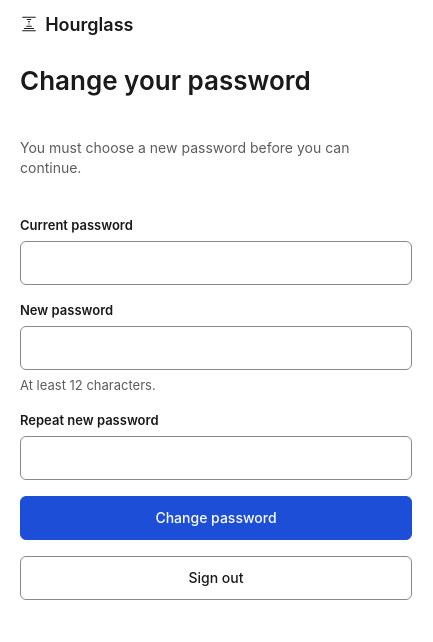
Test: AUTH-7 change-password screen › requires the two entries to match
This screenshot has width=433, height=642.
Type "old" into the password field labelled "Current password" at (216, 263), box [20,241,412,285]
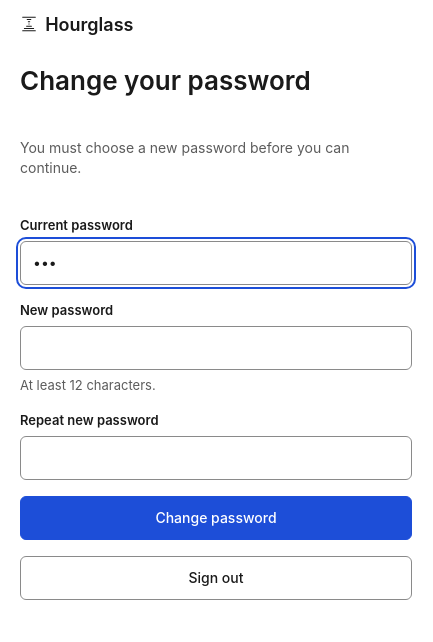
Type "a-long-enough-pw" into the password field labelled "New password" at (216, 348), box [20,326,412,370]
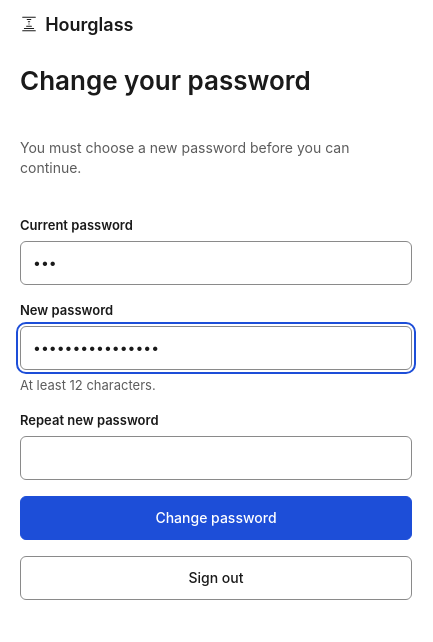
Type "different-long-pw" into the password field labelled "Repeat new password" at (216, 458), box [20,436,412,480]
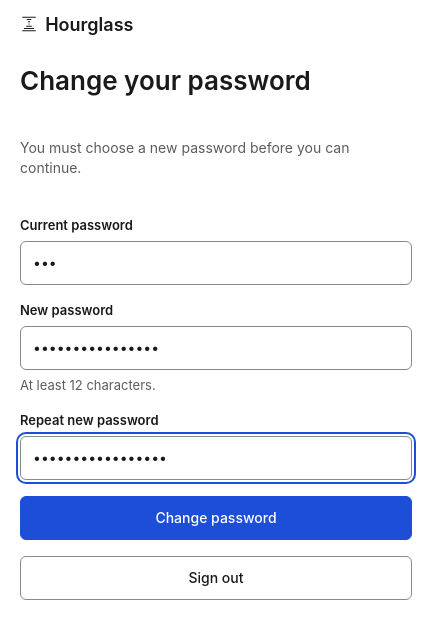
Click the button "Change password" at (216, 518), box [20,496,412,540]
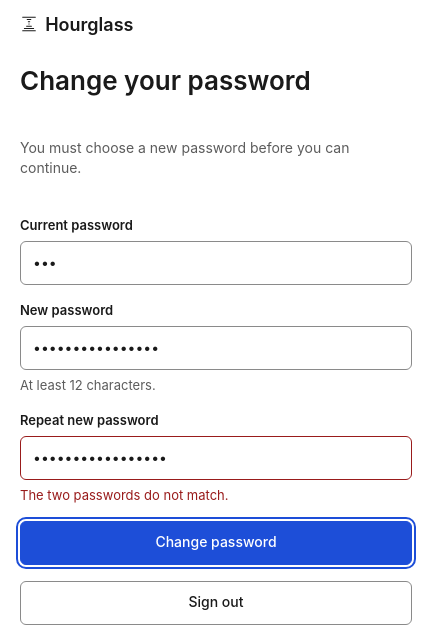
Check: the text "The two passwords do not match." is shown, box [20,487,228,503]
